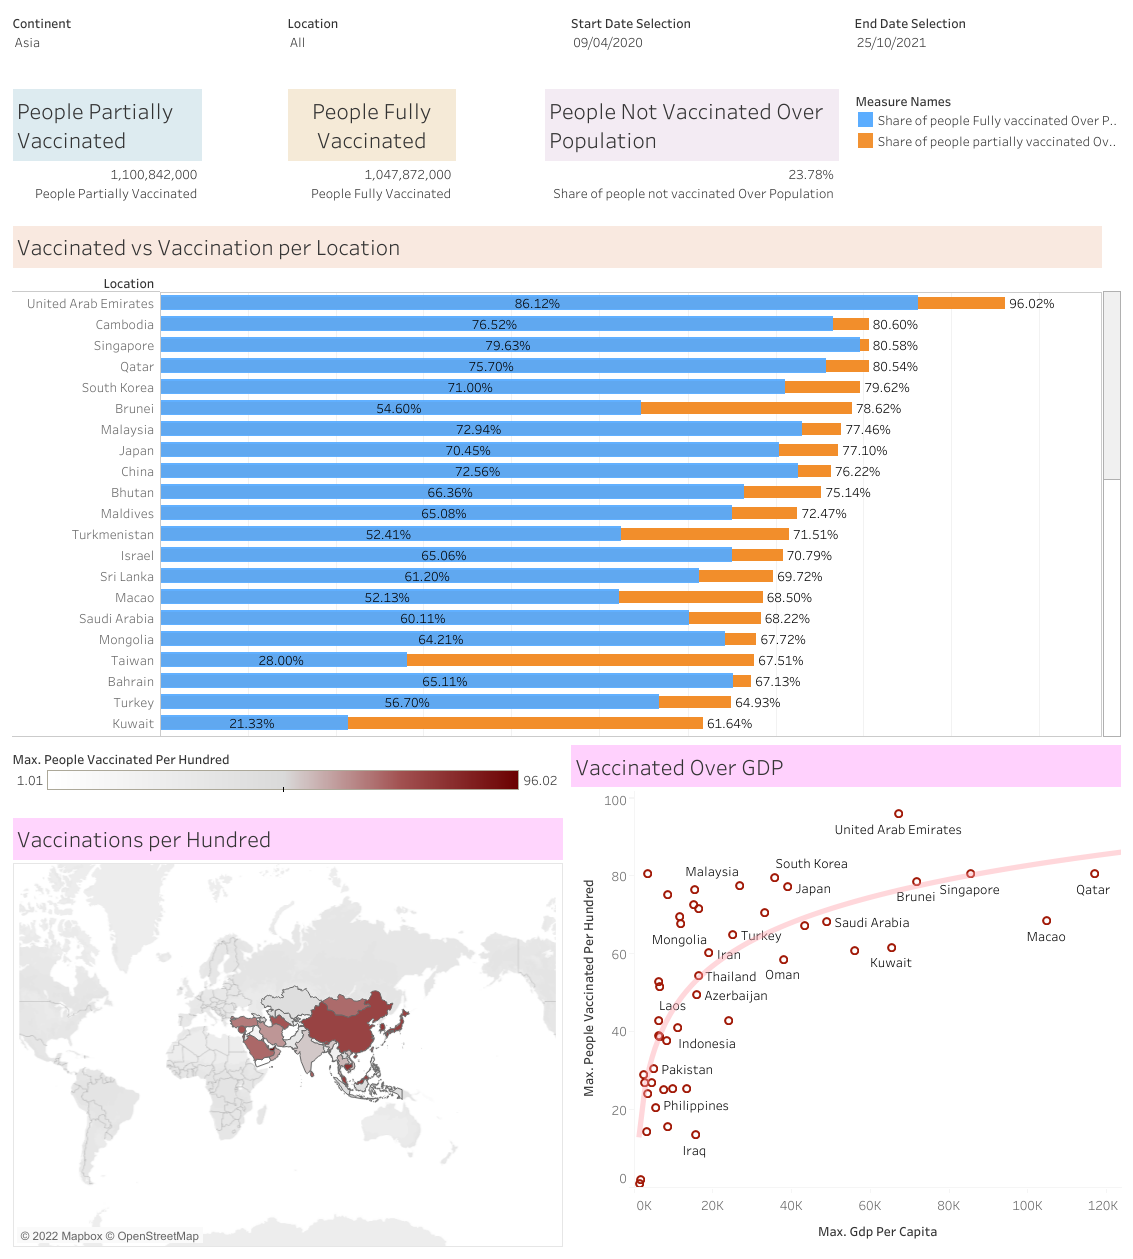

Layout of this report page (visuals, bound fields, positions):
{"tool":"tableau","page":{"name":"Dashboard 1","canvas":[1000,1000],"units":"permille","ordinal":0},"visuals":[{"type":"worksheet","title":"Sheet 1","mark":"Automatic","box":[6.7,12.7,342.3,202.5]},{"type":"worksheet","title":"Sheet 3","mark":"Automatic","box":[348.9,12.7,510.5,517.4]},{"type":"legend","title":"Sheet 3","param":"[federated.1m1ehr70bby5sn1cxg0bg1qtnlfi].[sum:PercentPopulationInfected:qk]","box":[859.4,12.7,133.9,110.8]},{"type":"legend","title":"Sheet 2","param":"[federated.1bgxyeu1pg78po0zxgyc50zqle1i].[none:location:nk]","box":[859.4,123.4,133.9,325.9]},{"type":"worksheet","title":"Sheet 2","mark":"Automatic","rows":["TotalDeathCount"],"cols":["location"],"box":[6.7,215.2,342.3,314.9]},{"type":"legend","title":"Sheet 4","param":"[federated.03nvi0z0xqkr3c1bs0g480e7nksz].[none:Location:nk]\n[federated.03nvi0z0x","box":[859.4,500,133.9,487.3]},{"type":"worksheet","title":"Sheet 4","mark":"Automatic","rows":["PercentPopulationInfected"],"cols":["date"],"box":[6.7,530.1,852.7,457.3]}]}

Visuals, with their boxes on the dashboard's canvas, which has no fixed pixel size, in thousandths of its width and height (x1, y1, x2, y2). These are canvas units, not pixel positions in the 1133x1259 screenshot, which may show the page scaled, cropped or inside an application window:
"Sheet 1" worksheet: bbox=(7, 13, 349, 215)
"Sheet 3" worksheet: bbox=(349, 13, 859, 530)
"Sheet 3" legend: bbox=(859, 13, 993, 124)
"Sheet 2" legend: bbox=(859, 123, 993, 449)
"Sheet 2" worksheet: bbox=(7, 215, 349, 530)
"Sheet 4" legend: bbox=(859, 500, 993, 987)
"Sheet 4" worksheet: bbox=(7, 530, 859, 987)
